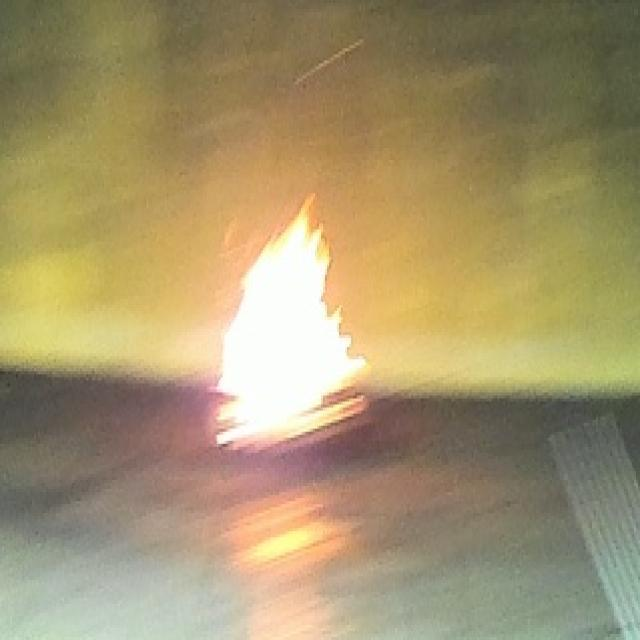Fire: (214, 192, 370, 454)
